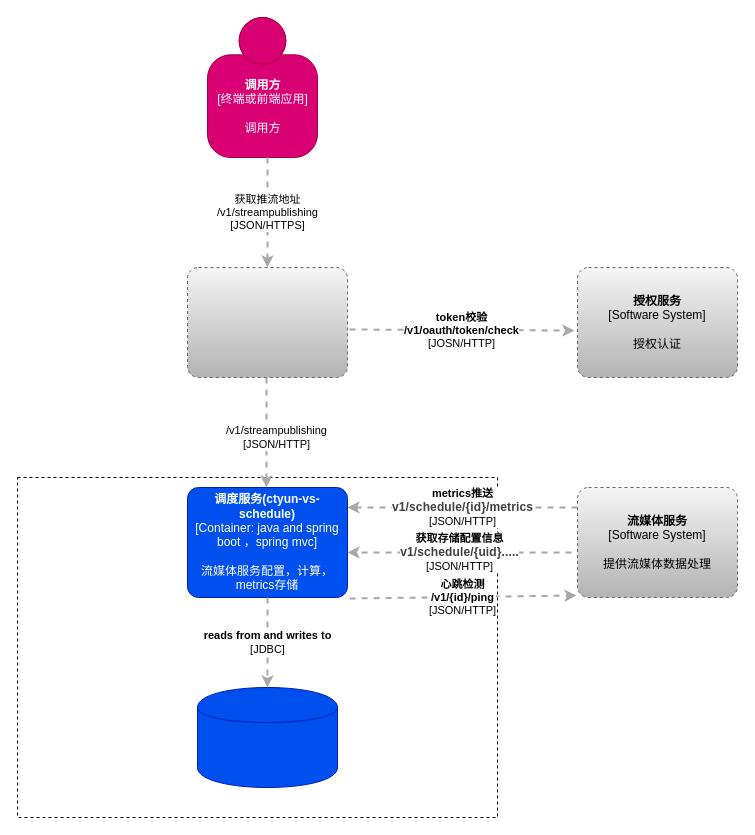
This 755x835 diagram has some shape labels left out. Here are the shapes that lost their labels. From the top down, the centre of each, then its label:
At point 267,322: "网关服务 [Software System] 负载均衡，路由转发，访问控制".
At point 267,737: "Database [Container: tidb] 流媒体服务配置及状态数据".
